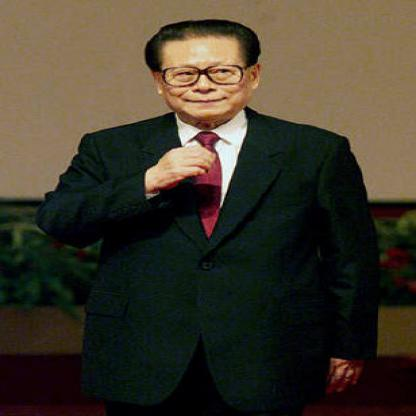face: (160, 23, 253, 120)
